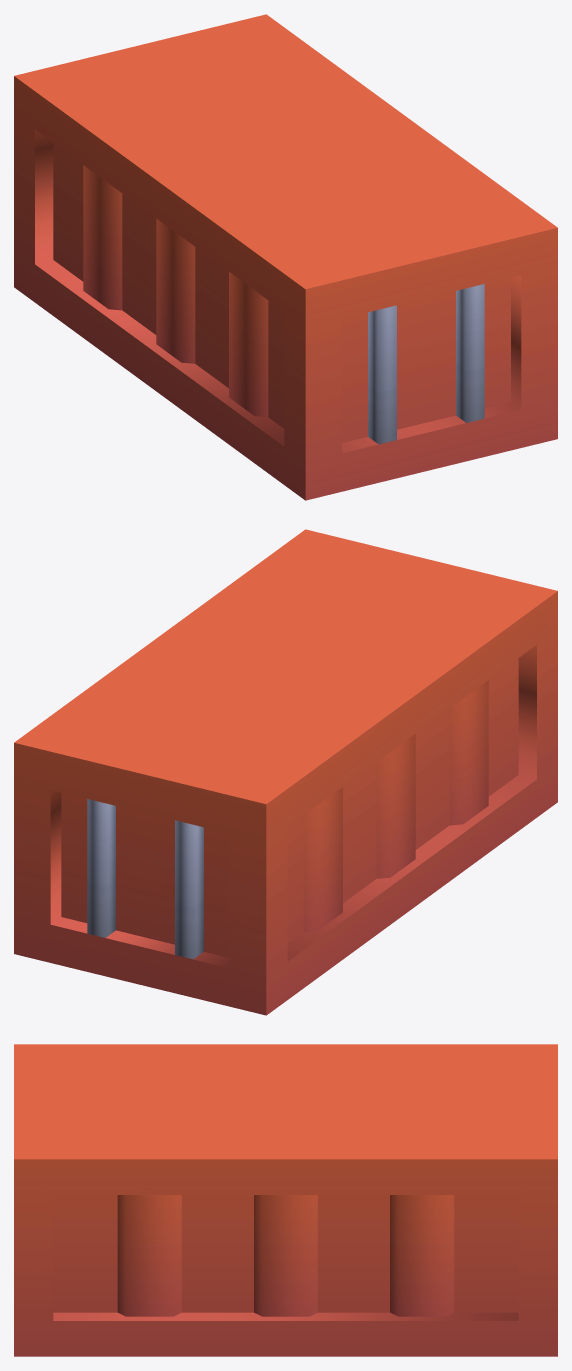
Rendered from k-watercraft-cargo-container-a.glb.
3 views of the same model, one above another, from view 1: azimuth 30°, elevation 25°; view 2: azimuth 150°, elevation 25°; view 3: azimuth 270°, elevation 25° (orthographic). The views are drawn at different scales.
Parts seen in each view (by area): view 1: cargo-container-a; view 2: cargo-container-a; view 3: cargo-container-a.
Boxes of the visible parts, left/top/right/bottom form: cargo-container-a: left=14, top=14, right=557, bottom=500; cargo-container-a: left=14, top=529, right=557, bottom=1015; cargo-container-a: left=14, top=1044, right=557, bottom=1356.
Size of the model in its own units: 1.38 by 1.1 by 2.76.
Materials: 1 (1 with a texture image).
